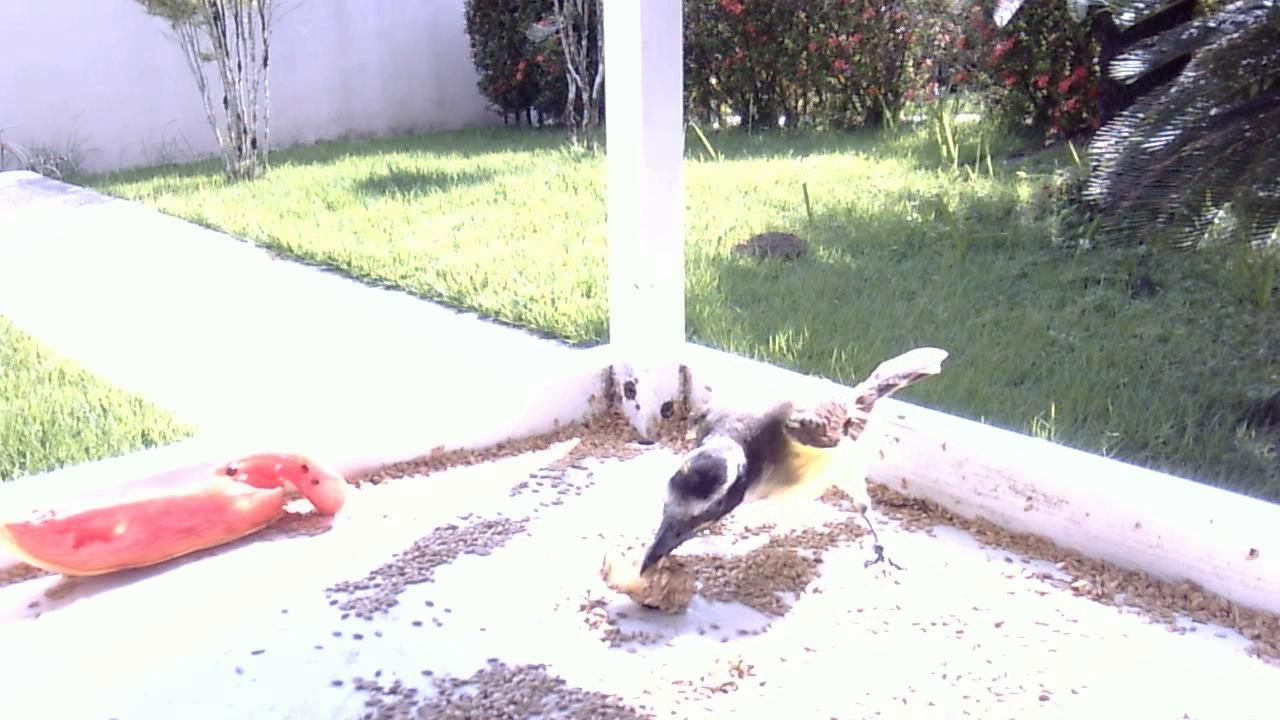bem_te_vi: (620, 328, 960, 614)
